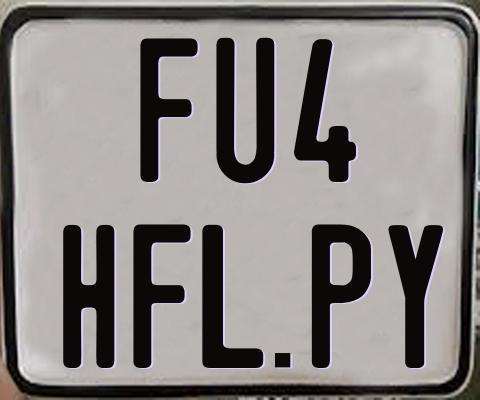4: (293, 38, 356, 184)
F: (137, 35, 199, 184), (132, 224, 195, 369)
H: (61, 222, 118, 367)
L: (199, 223, 264, 369)
P: (312, 224, 371, 370)
U: (216, 38, 274, 185)
Y: (387, 224, 446, 368)
